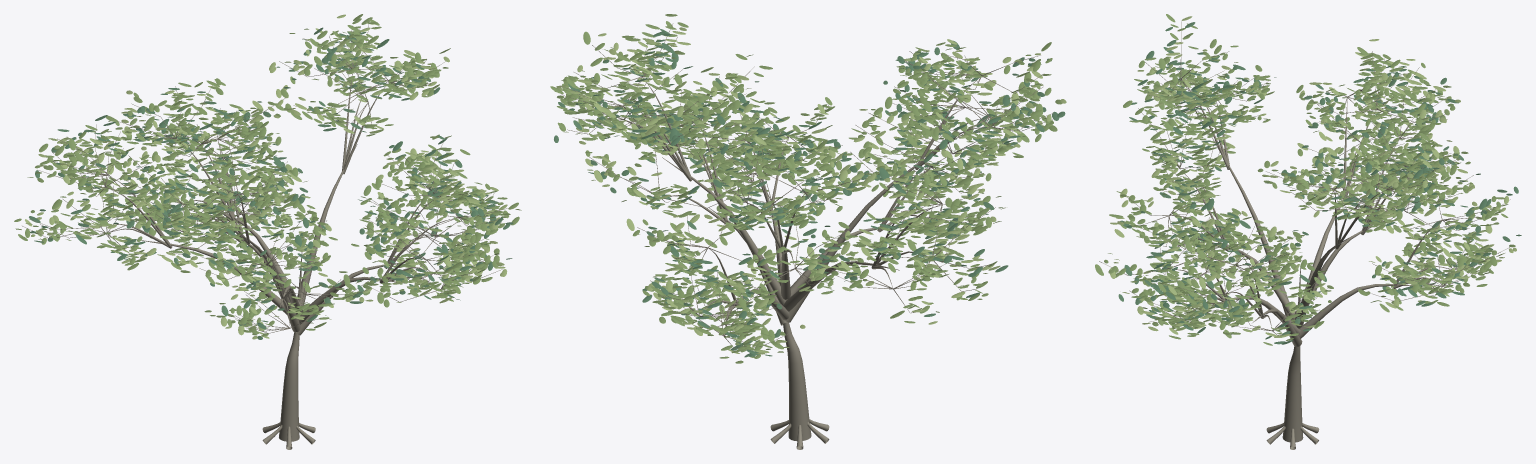
Rendered from tree0.glb.
The picture shows the model from 3 angles, left to right: view 1: azimuth 30°, elevation 25°; view 2: azimuth 150°, elevation 25°; view 3: azimuth 270°, elevation 25°; orthographic projection. The views are drawn at different scales.
Visible parts, largest first — view 1: Tree0_Leaf, Tree0_LeafLight, Tree0_Trunk, Tree0_LeafDark; view 2: Tree0_Leaf, Tree0_LeafLight, Tree0_Trunk, Tree0_LeafDark; view 3: Tree0_Leaf, Tree0_LeafLight, Tree0_Trunk, Tree0_LeafDark.
Boxes of the visible parts, bbox=[...] form: Tree0_Leaf: bbox=[14, 14, 519, 337]; Tree0_LeafLight: bbox=[25, 14, 521, 339]; Tree0_Trunk: bbox=[22, 21, 509, 449]; Tree0_LeafDark: bbox=[29, 27, 513, 339]; Tree0_Leaf: bbox=[550, 14, 1062, 363]; Tree0_LeafLight: bbox=[554, 27, 1066, 354]; Tree0_Trunk: bbox=[560, 23, 1053, 449]; Tree0_LeafDark: bbox=[554, 29, 1065, 357]; Tree0_Leaf: bbox=[1095, 14, 1515, 345]; Tree0_LeafLight: bbox=[1110, 16, 1516, 337]; Tree0_Trunk: bbox=[1099, 21, 1510, 449]; Tree0_LeafDark: bbox=[1118, 22, 1521, 344].
Bounding box in the file's own units: 11.74 × 9.27 × 10.36.
